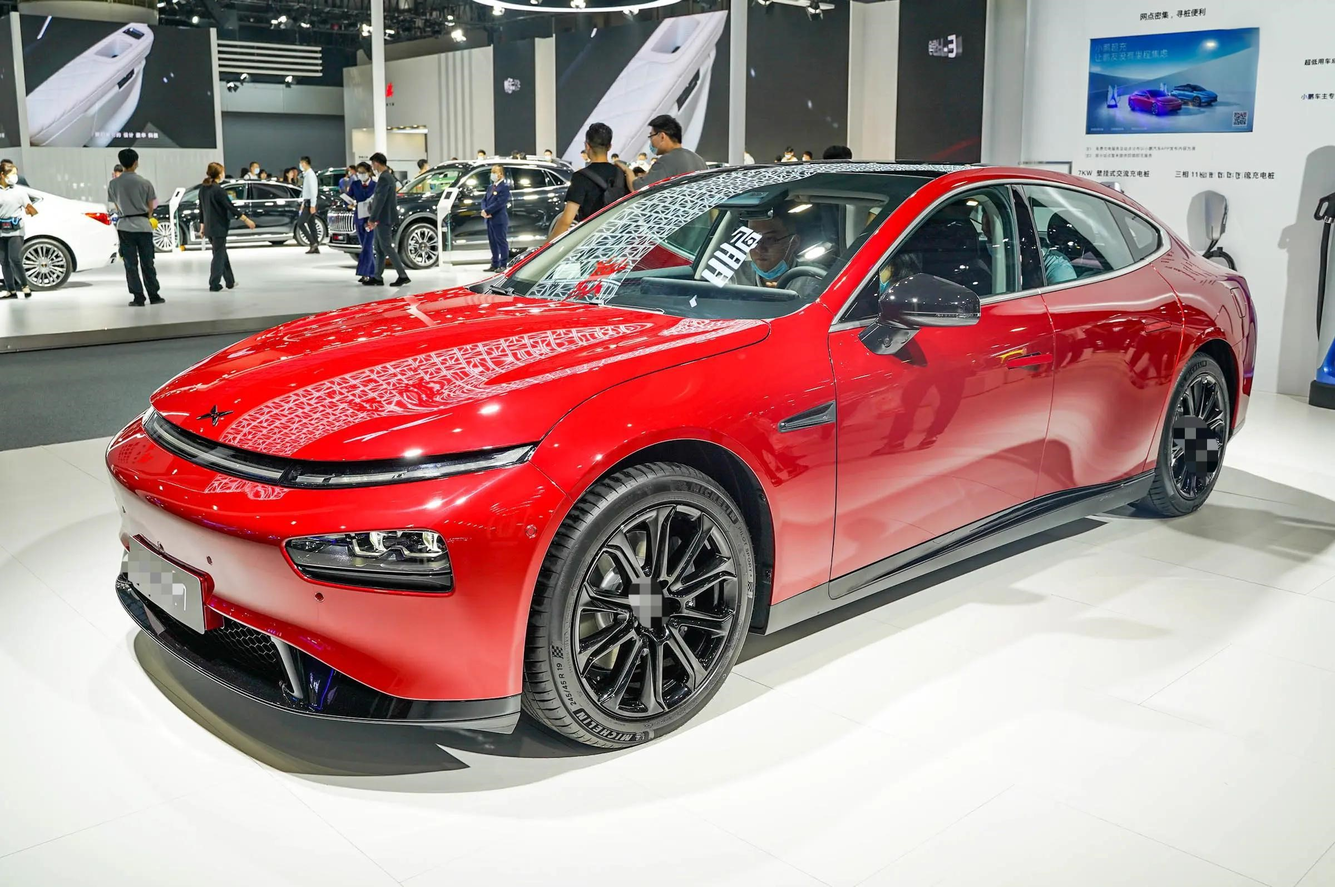XPeng Motors: (195, 405, 233, 426)
